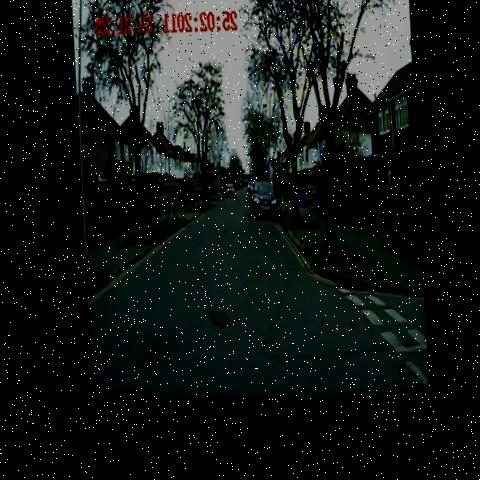pothole: (198, 304, 232, 338)
